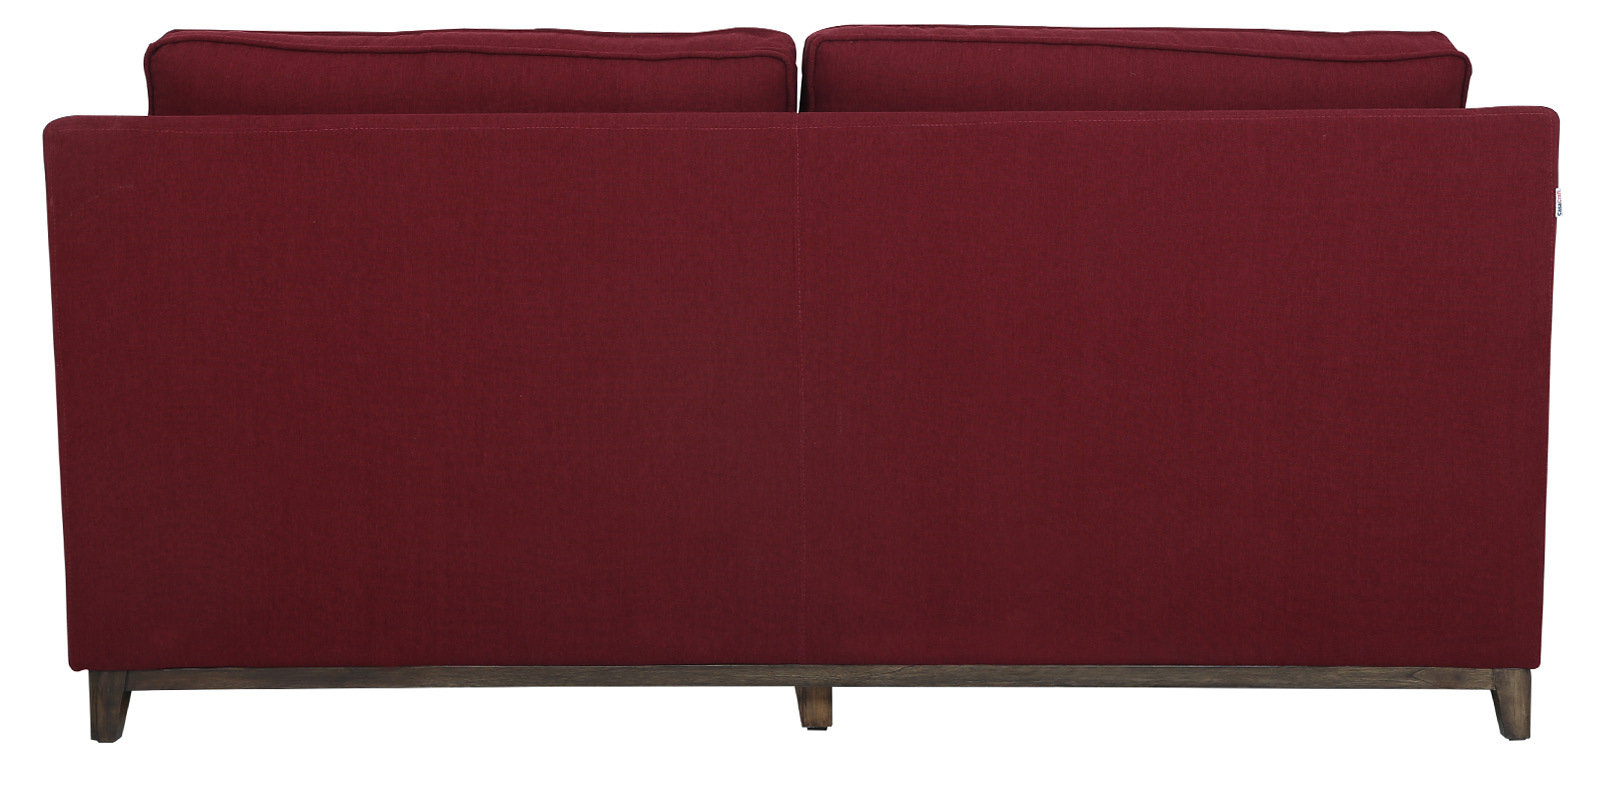Diego Three Seater Sofa in Garnet Red Colour by CasaCraft: (33, 24, 1565, 762)
